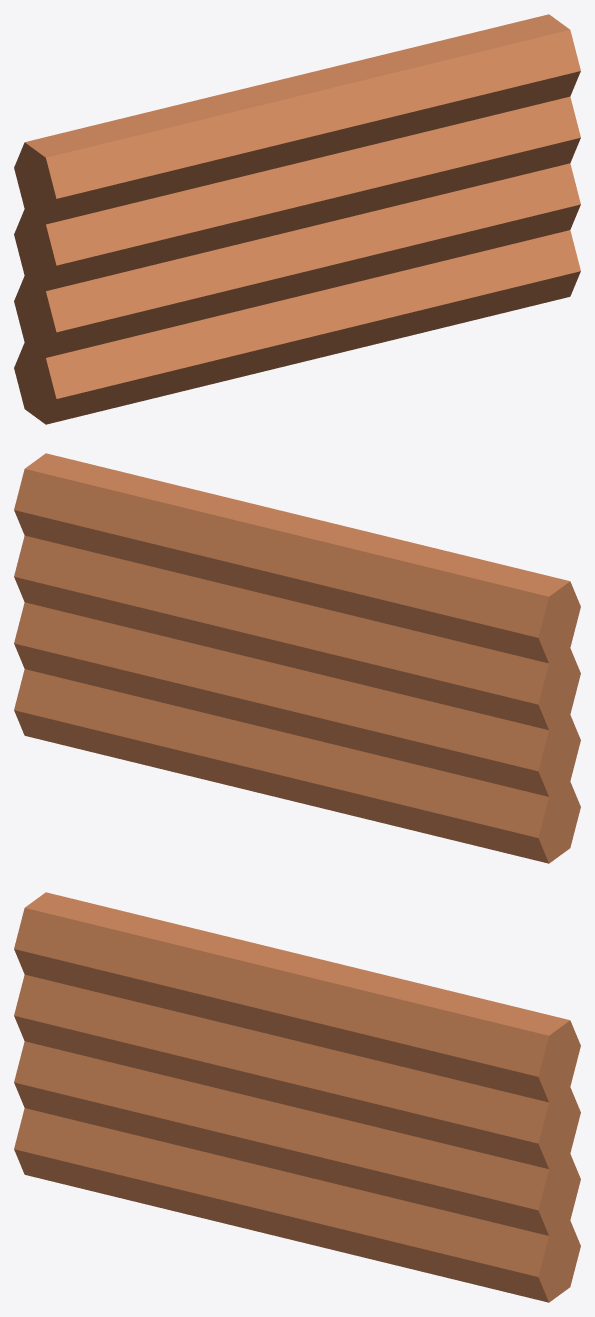
The model's file is cabinWallHalf.dae.
3 views of the same model, one above another, from view 1: azimuth 30°, elevation 25°; view 2: azimuth 150°, elevation 25°; view 3: azimuth 330°, elevation 25° (orthographic).
Parts seen in each view (by area): view 1: cabinWallHalf; view 2: cabinWallHalf; view 3: cabinWallHalf.
Part boxes in pixels (left/top/right/bottom): cabinWallHalf: left=14, top=14, right=580, bottom=424; cabinWallHalf: left=14, top=453, right=580, bottom=863; cabinWallHalf: left=14, top=892, right=580, bottom=1302.
Size of the model in its own units: 1 by 0.4864 by 0.1404.
